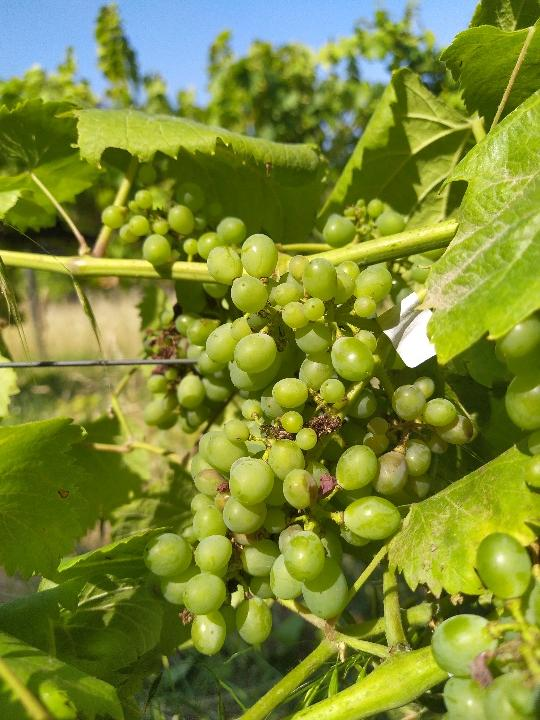grape: (140, 229, 484, 654)
